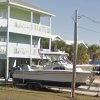Boat: (10, 40, 94, 95)
